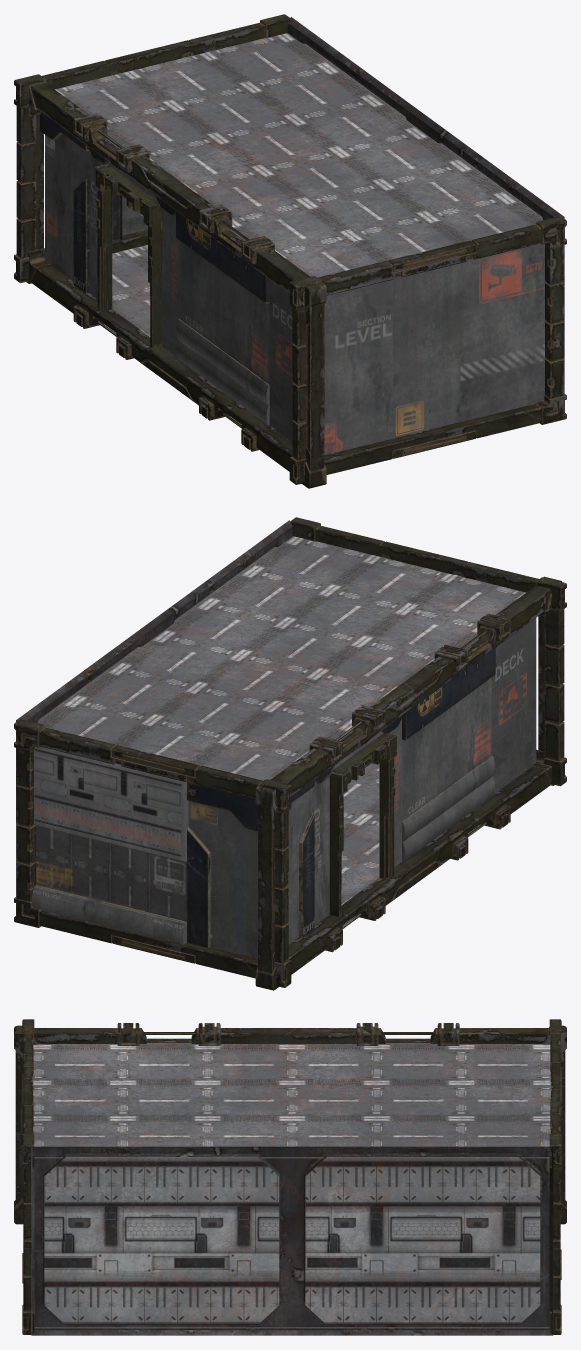
Rendered from SM_Larger_Door_Unit.fbx.
The picture shows the model from 3 angles, top to bottom: view 1: azimuth 30°, elevation 25°; view 2: azimuth 150°, elevation 25°; view 3: azimuth 270°, elevation 25°; orthographic projection. The views are drawn at different scales.
Parts seen in each view (by area): view 1: SM_Larger_Door_Unit_LOD0; view 2: SM_Larger_Door_Unit_LOD0; view 3: SM_Larger_Door_Unit_LOD0.
Boxes of the visible parts, x1,y1,x2,y2 form: SM_Larger_Door_Unit_LOD0: (14, 14, 566, 488); SM_Larger_Door_Unit_LOD0: (14, 517, 566, 990); SM_Larger_Door_Unit_LOD0: (14, 1019, 566, 1335).
Size of the model in its own units: 420 by 771 by 299.
5 materials, 5 textured.
